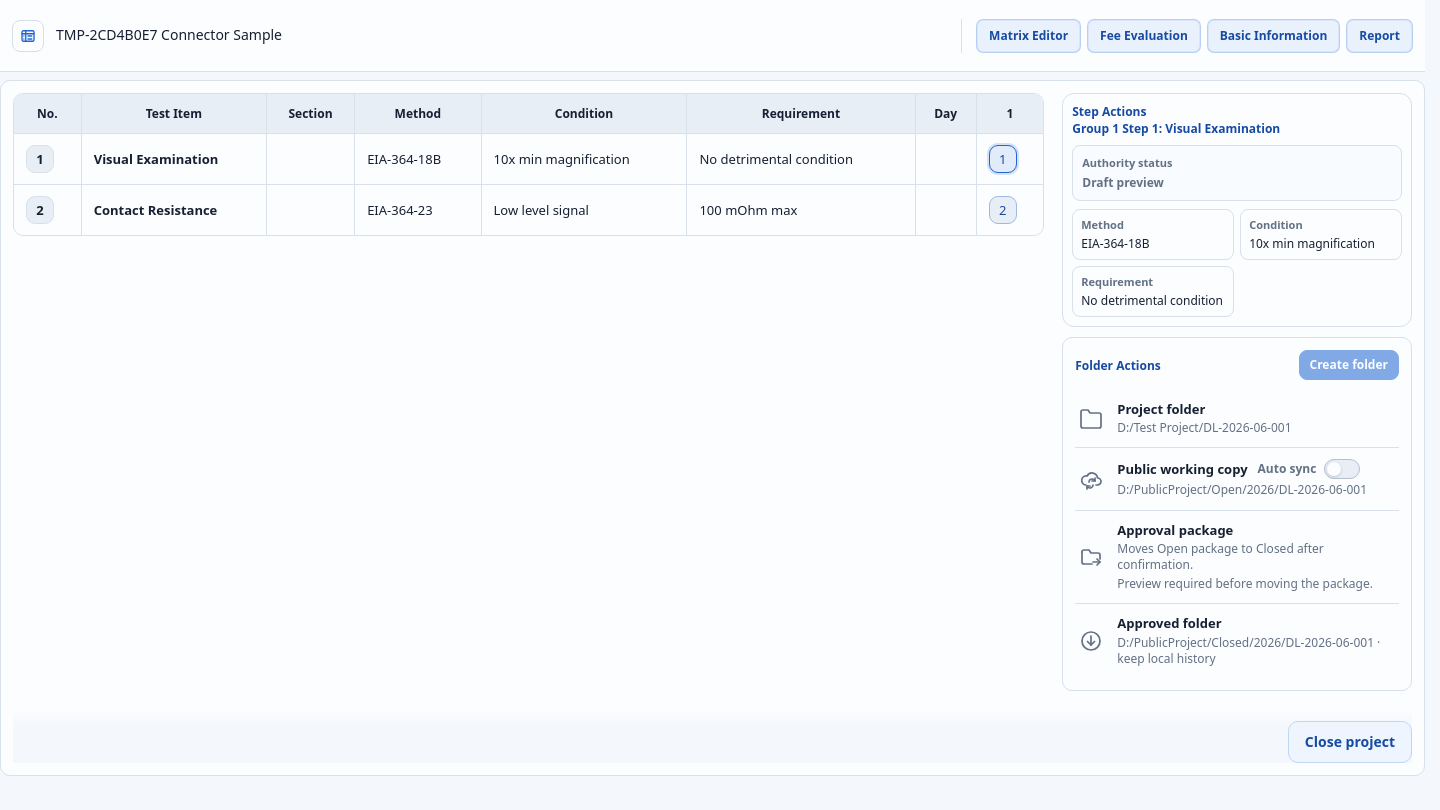
Test: ProjectWorkbenchLayout lifecycle modes › selects no-Matrix preview steps and updates the Step workspace
Expected: the element named "Step workspace" shows "Group 1 Step 1: Visual Examination", [1072,120,1280,137]
Click the button "2" at (1003,210), box [989,196,1017,224]
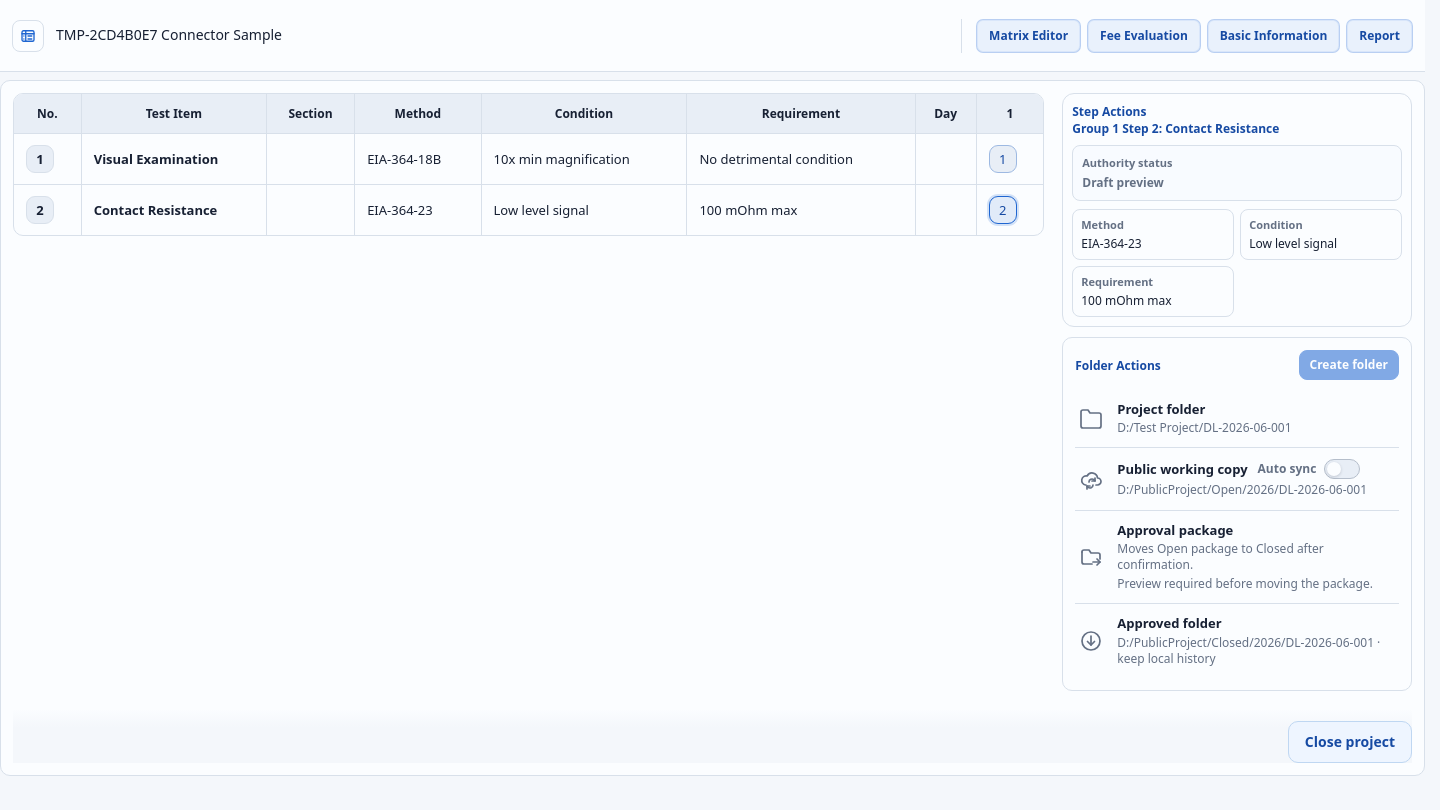
Now the element named "Step workspace" shows "Group 1 Step 2: Contact Resistance", box [1072,120,1279,137]
Now the text "EIA-364-23" is shown, box [1081,235,1142,252]
Now the text "100 mOhm max" is shown, box [1081,292,1172,309]
